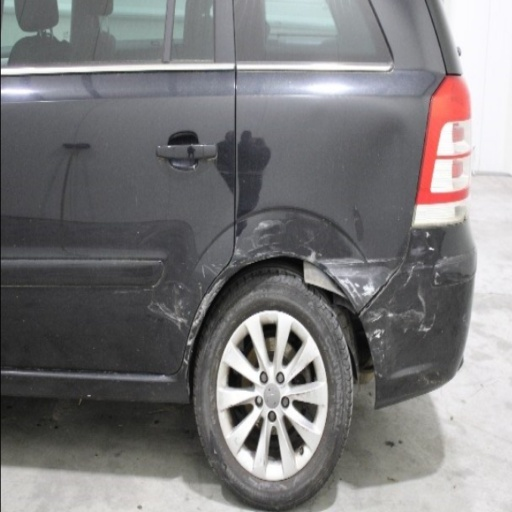dent: (362, 115, 420, 178)
scratch: (404, 292, 439, 340), (147, 298, 190, 334), (330, 270, 364, 305), (366, 307, 424, 324), (250, 234, 278, 252), (253, 220, 286, 235), (115, 287, 146, 302), (300, 245, 318, 265), (318, 259, 364, 266), (233, 237, 247, 259), (434, 257, 461, 268), (362, 282, 376, 298), (384, 265, 398, 281), (404, 265, 414, 287), (365, 259, 398, 265), (221, 262, 236, 275), (203, 265, 217, 277), (373, 328, 386, 340), (424, 377, 446, 384), (183, 349, 191, 366), (282, 251, 299, 258), (433, 272, 441, 286), (417, 261, 433, 268), (411, 247, 426, 254), (255, 252, 269, 258), (266, 254, 278, 260), (366, 333, 373, 343), (376, 371, 384, 378), (380, 354, 385, 363), (355, 281, 360, 289), (202, 266, 205, 279), (178, 284, 184, 290), (429, 247, 435, 252), (425, 232, 430, 238), (200, 287, 202, 301), (380, 340, 384, 346), (408, 268, 411, 276), (198, 282, 200, 284)
